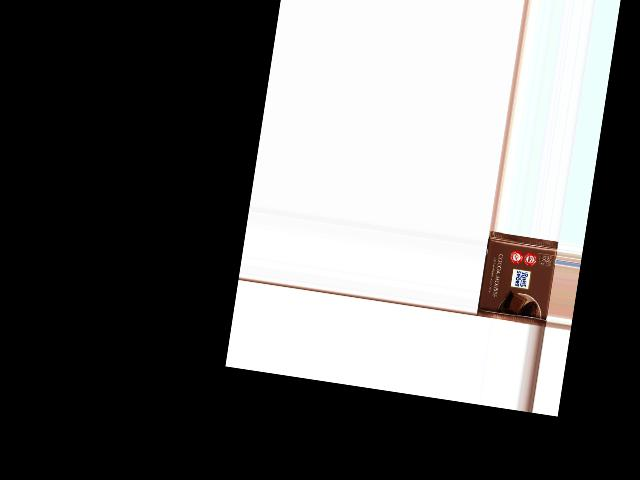chocolate: (475, 232, 558, 326)
